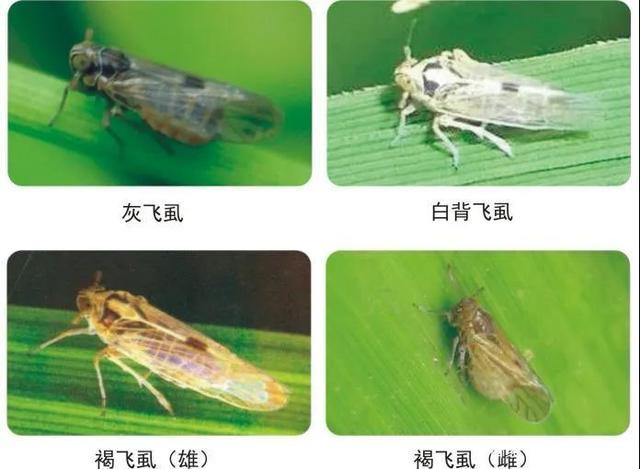Delphacidae: (31, 267, 289, 419), (387, 17, 608, 173), (46, 27, 284, 157), (410, 262, 553, 425)
